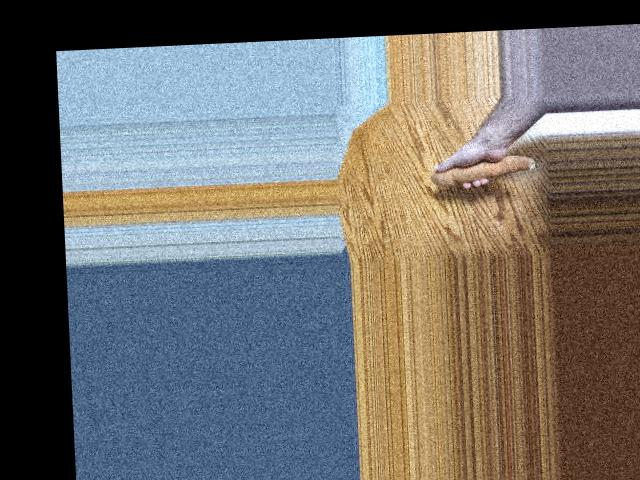sweet_potato: (431, 151, 535, 191)
